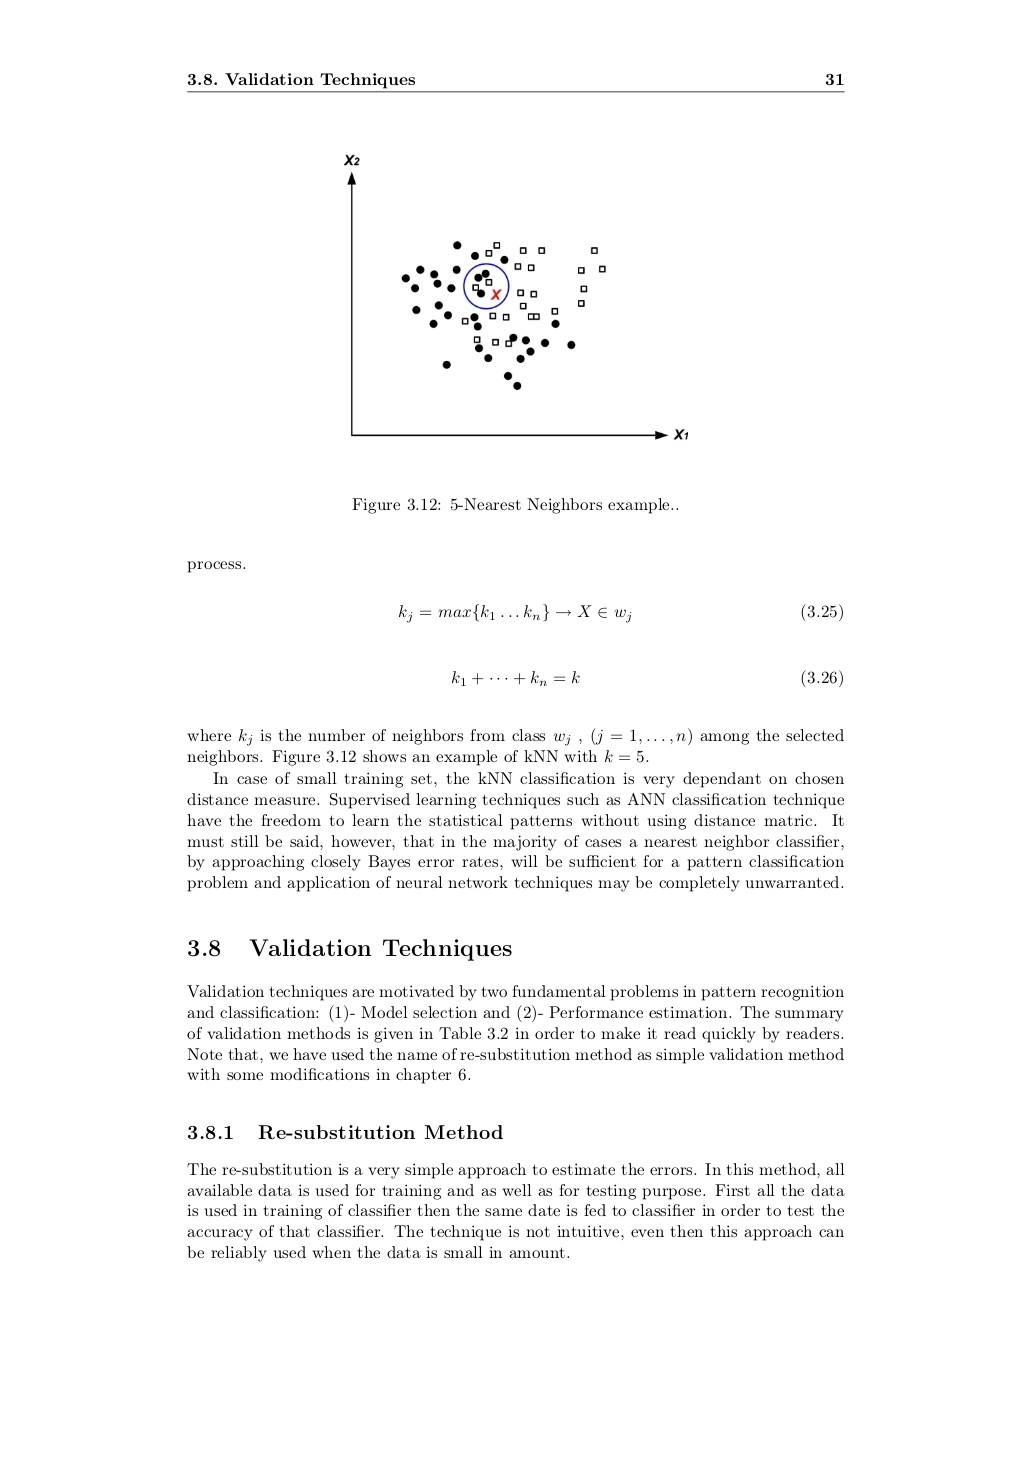figure: (344, 154, 687, 439)
formula: (399, 603, 842, 624), (452, 669, 842, 688)
